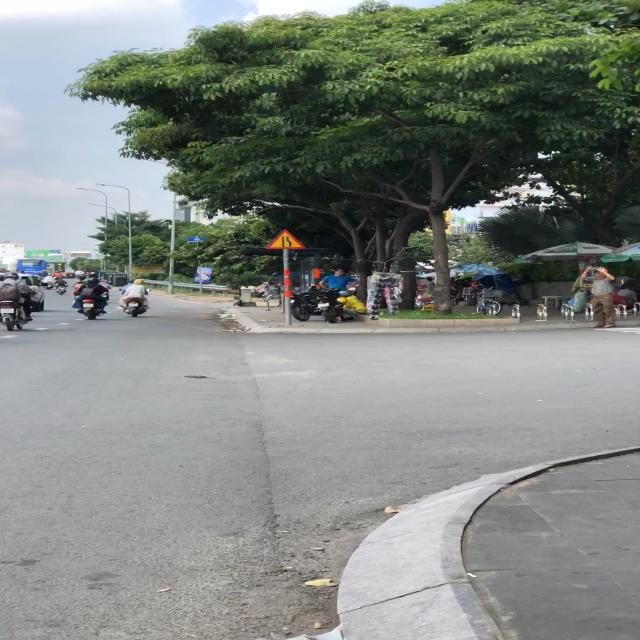Bien bao duong bi thu hep: (263, 228, 306, 250)
